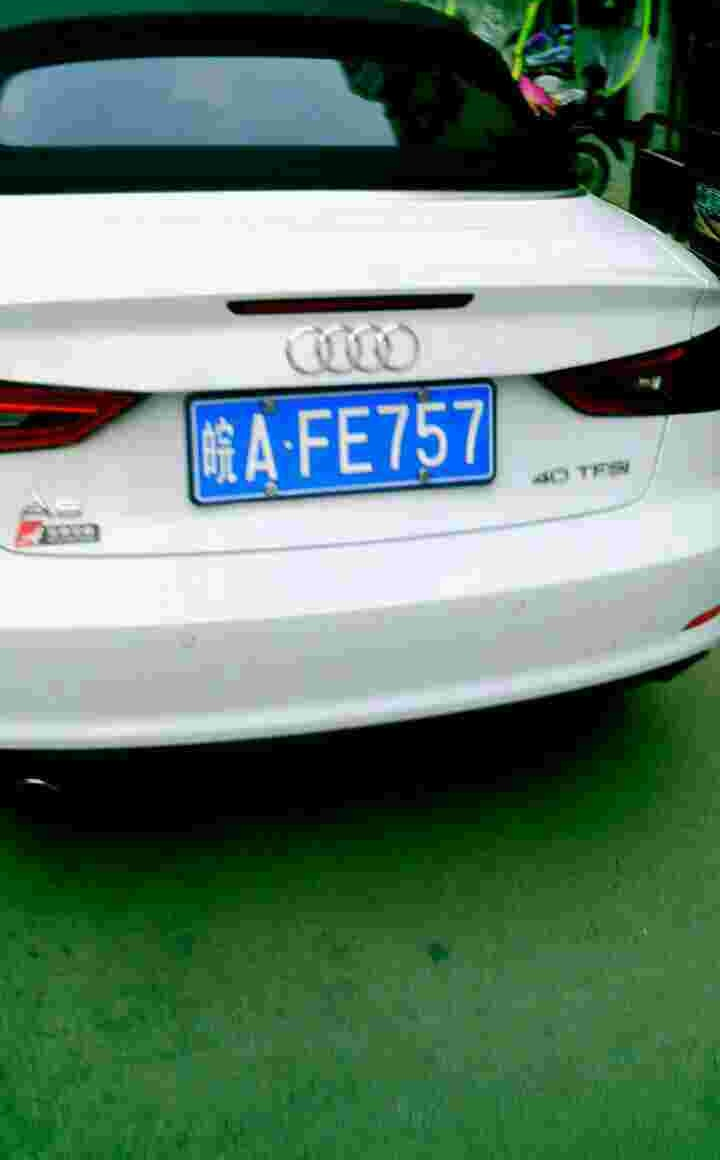license_plate: (196, 390, 488, 509)
